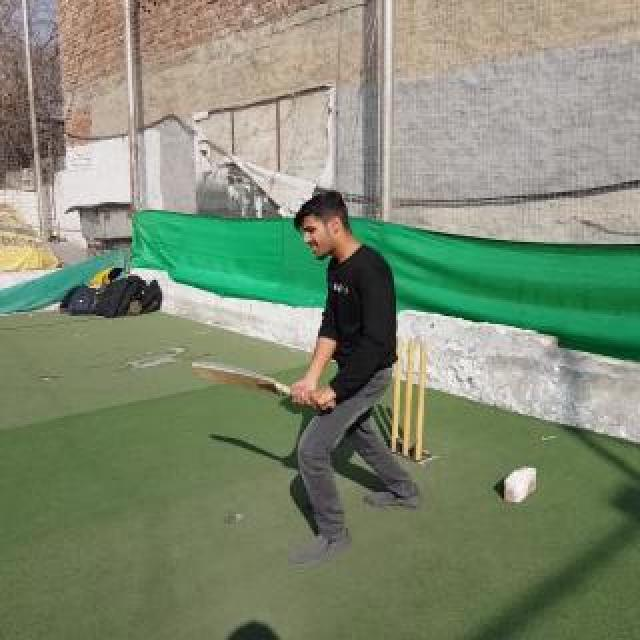bat: (191, 360, 335, 408)
